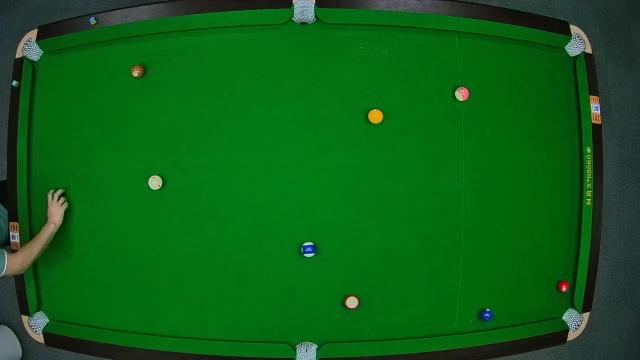bag1: (19, 36, 45, 64)
bag2: (292, 0, 316, 26)
bag3: (563, 30, 589, 57)
bag4: (25, 309, 51, 339)
bag5: (294, 340, 318, 360)
bag6: (560, 306, 586, 334)
ball0: (148, 174, 164, 192)
ball1: (366, 108, 384, 124)
ball10: (300, 241, 318, 259)
ball11: (344, 294, 360, 310)
ball12: (454, 86, 470, 102)
ball2: (479, 308, 495, 322)
ball3: (556, 280, 572, 296)
ball7: (130, 64, 146, 80)
